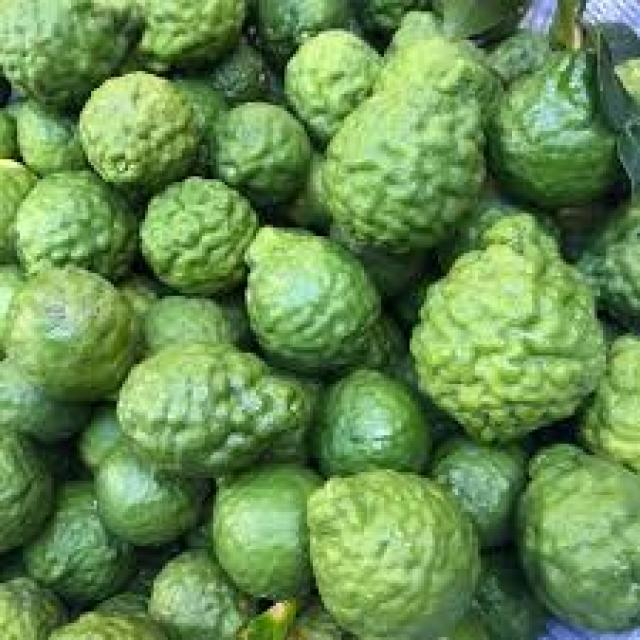Chuc: (407, 211, 606, 444), (319, 31, 492, 253), (304, 467, 481, 637), (114, 338, 310, 478), (512, 441, 637, 631), (487, 50, 620, 210), (238, 214, 374, 363), (47, 69, 204, 182), (12, 260, 129, 399), (0, 0, 146, 107), (212, 473, 332, 588), (21, 186, 147, 283), (32, 473, 122, 604), (316, 363, 428, 467), (287, 24, 387, 140), (202, 89, 304, 202), (551, 210, 640, 331), (136, 548, 248, 640), (151, 183, 253, 284), (95, 463, 208, 541), (433, 446, 522, 544), (132, 0, 244, 73), (0, 407, 51, 558), (139, 282, 228, 352), (10, 102, 86, 178), (255, 0, 354, 55), (593, 339, 640, 446)
